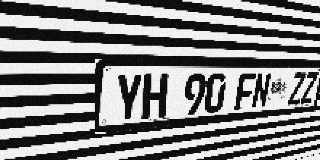0: (203, 73, 227, 114)
9: (183, 73, 207, 116)
F: (234, 73, 256, 111)
H: (141, 74, 169, 120)
N: (251, 73, 272, 109)
Y: (114, 74, 143, 122)
Z: (288, 72, 307, 105), (300, 72, 318, 104)
